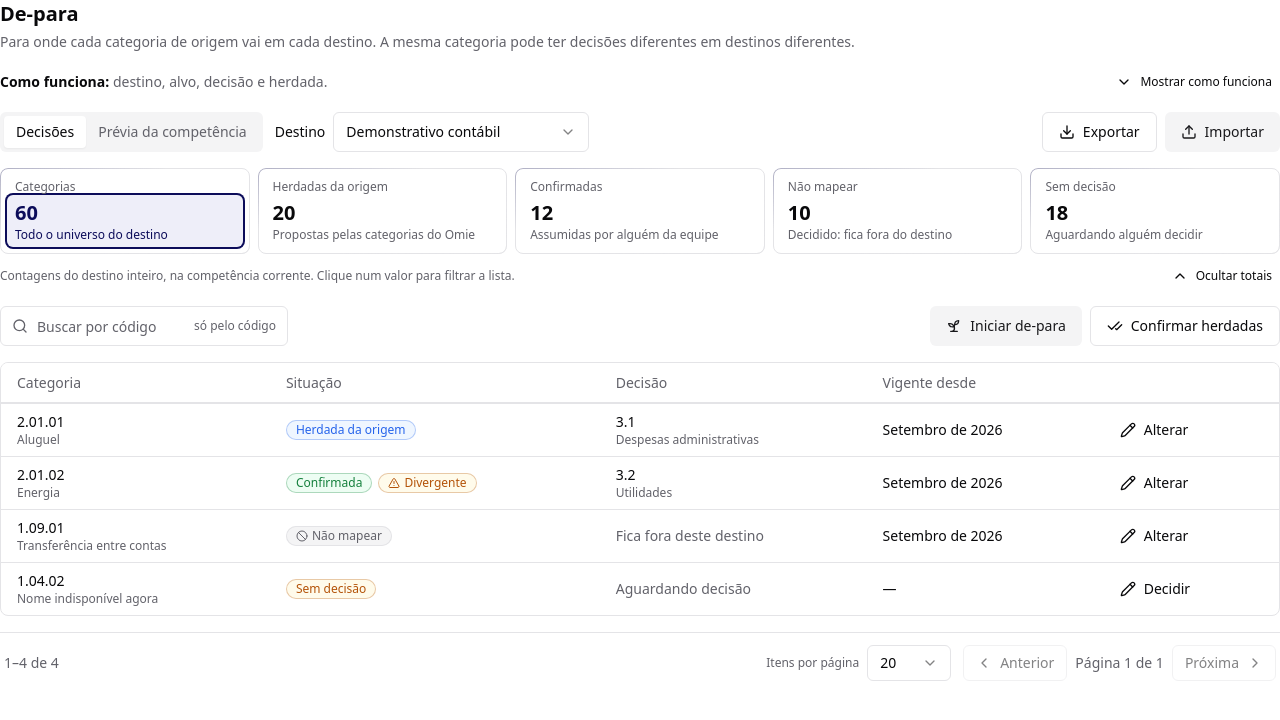
it: ClientMappingScreen — contadores que filtram (86e3f55bd) › clicar na linha abre a gaveta do item certo para quem edita (sem tabIndex/role)
This screenshot has width=1280, height=720.
What coordinates should you click on to do the following:
click the text "Nome indisponível agora"
I would click on:
 (88, 598)
Its box is top-left (17, 590), bottom-right (158, 606).
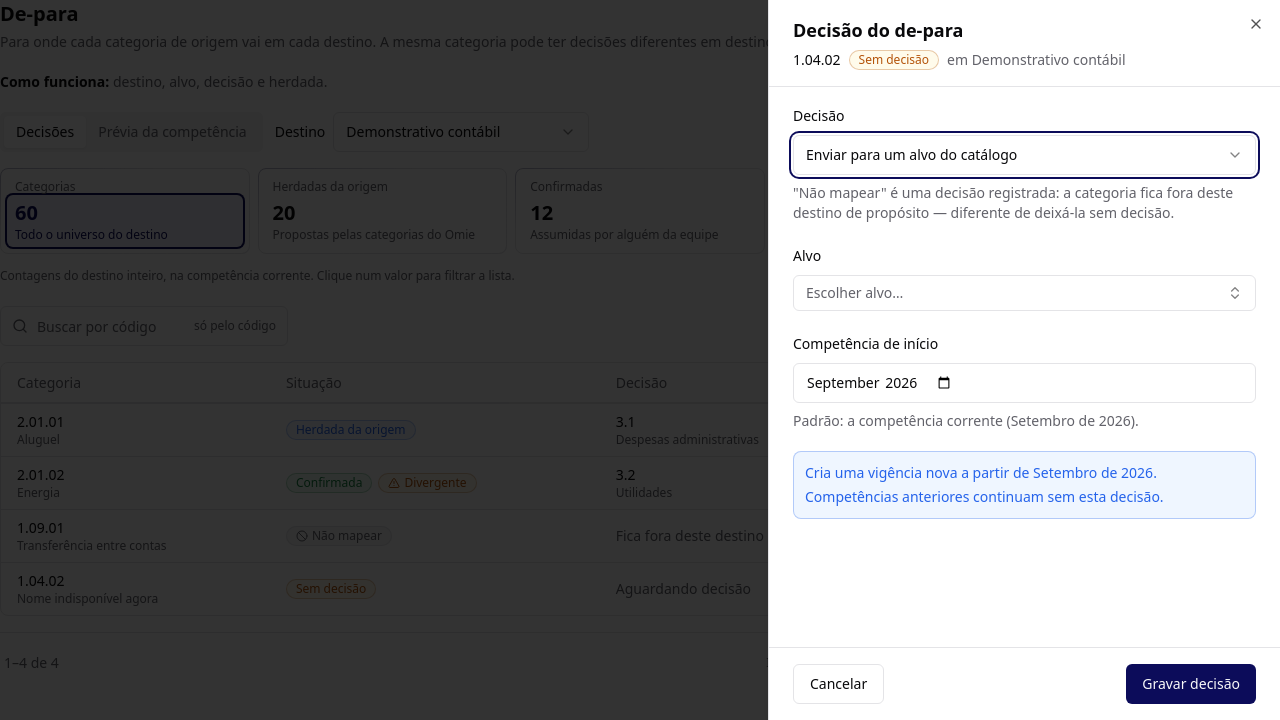
Expected: the dialog does not show "2.01.01", top-left (768, 0), bottom-right (1279, 719)
Expected: the heading "Decisão do de-para" is shown, top-left (793, 18), bottom-right (963, 42)
Expected: the dialog shows "1.04.02", top-left (793, 50), bottom-right (840, 69)
